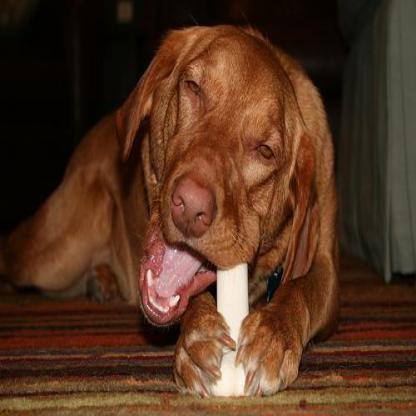vizsla: (0, 22, 338, 394)
